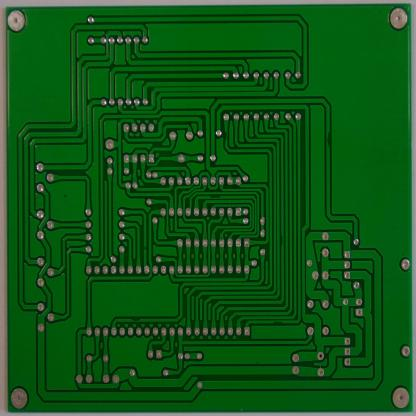mouse_bite: (325, 128, 331, 150), (129, 316, 142, 323), (209, 194, 222, 200), (272, 319, 284, 325), (223, 130, 229, 142), (280, 232, 284, 247)
